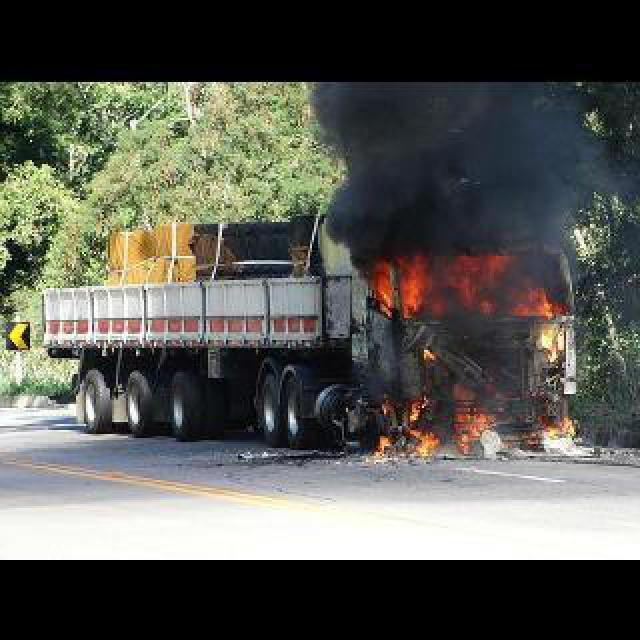Fire: (368, 249, 509, 311), (454, 402, 490, 449), (518, 290, 564, 319), (406, 434, 444, 460)
Smoke: (309, 75, 610, 434)
